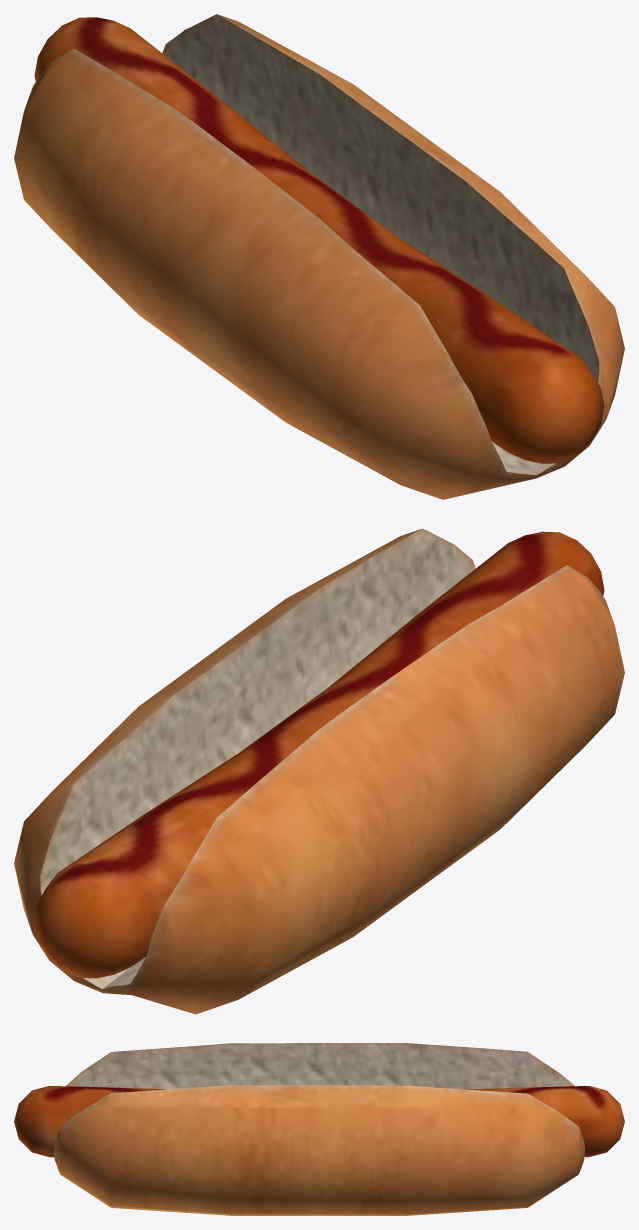
The model's file is HotDog.glb.
The picture shows the model from 3 angles, top to bottom: view 1: azimuth 30°, elevation 25°; view 2: azimuth 150°, elevation 25°; view 3: azimuth 270°, elevation 25°; orthographic projection. The views are drawn at different scales.
Visible parts, largest first — view 1: HotDog; view 2: HotDog; view 3: HotDog.
Boxes of the visible parts, left/top/right/bottom form: HotDog: left=14, top=14, right=624, bottom=499; HotDog: left=14, top=528, right=624, bottom=1014; HotDog: left=14, top=1043, right=624, bottom=1215.
Size of the model in its own units: 0.0542 by 0.0384 by 0.1577.
1 material, 1 textured.
